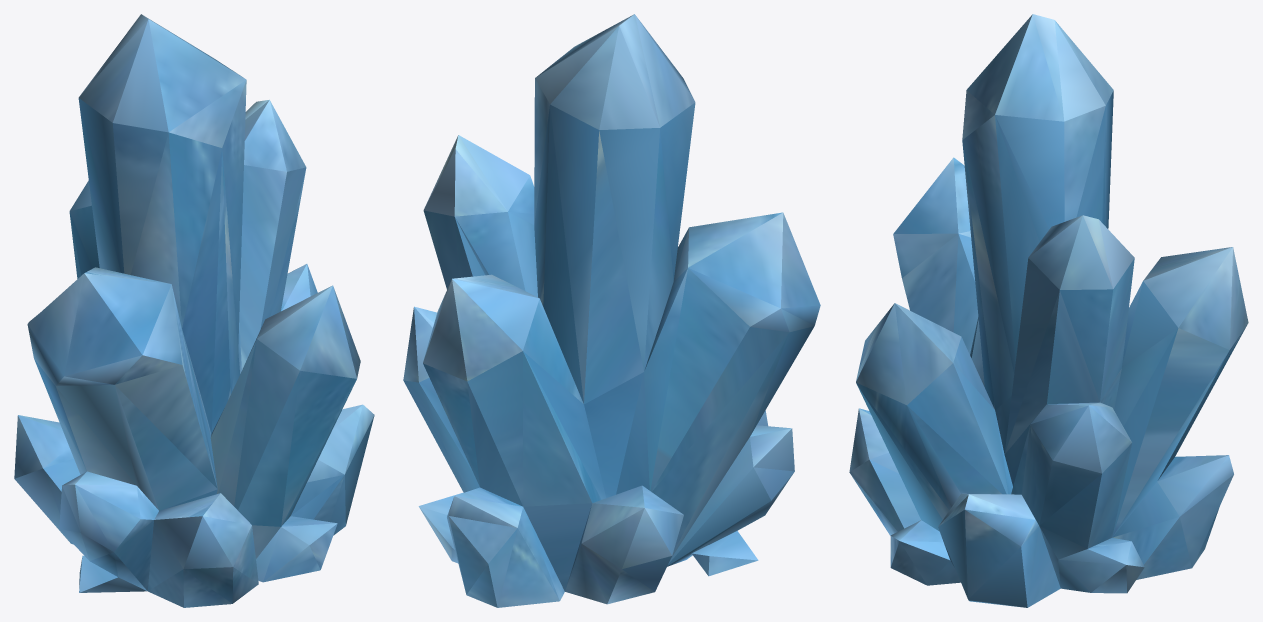
Rendered from racimo_hielo_m_300.glb.
3 views of the same model, side by side, from view 1: azimuth 30°, elevation 25°; view 2: azimuth 150°, elevation 25°; view 3: azimuth 270°, elevation 25° (orthographic). The views are drawn at different scales.
Visible parts, largest first — view 1: racimo_hielo_m_malla; view 2: racimo_hielo_m_malla; view 3: racimo_hielo_m_malla.
Part boxes in pixels (left/top/right/bottom): racimo_hielo_m_malla: left=14, top=14, right=374, bottom=607; racimo_hielo_m_malla: left=403, top=14, right=820, bottom=607; racimo_hielo_m_malla: left=849, top=14, right=1248, bottom=607.
Size of the model in its own units: 0.1551 by 0.242 by 0.1683.
Materials: 1 (1 with a texture image).
